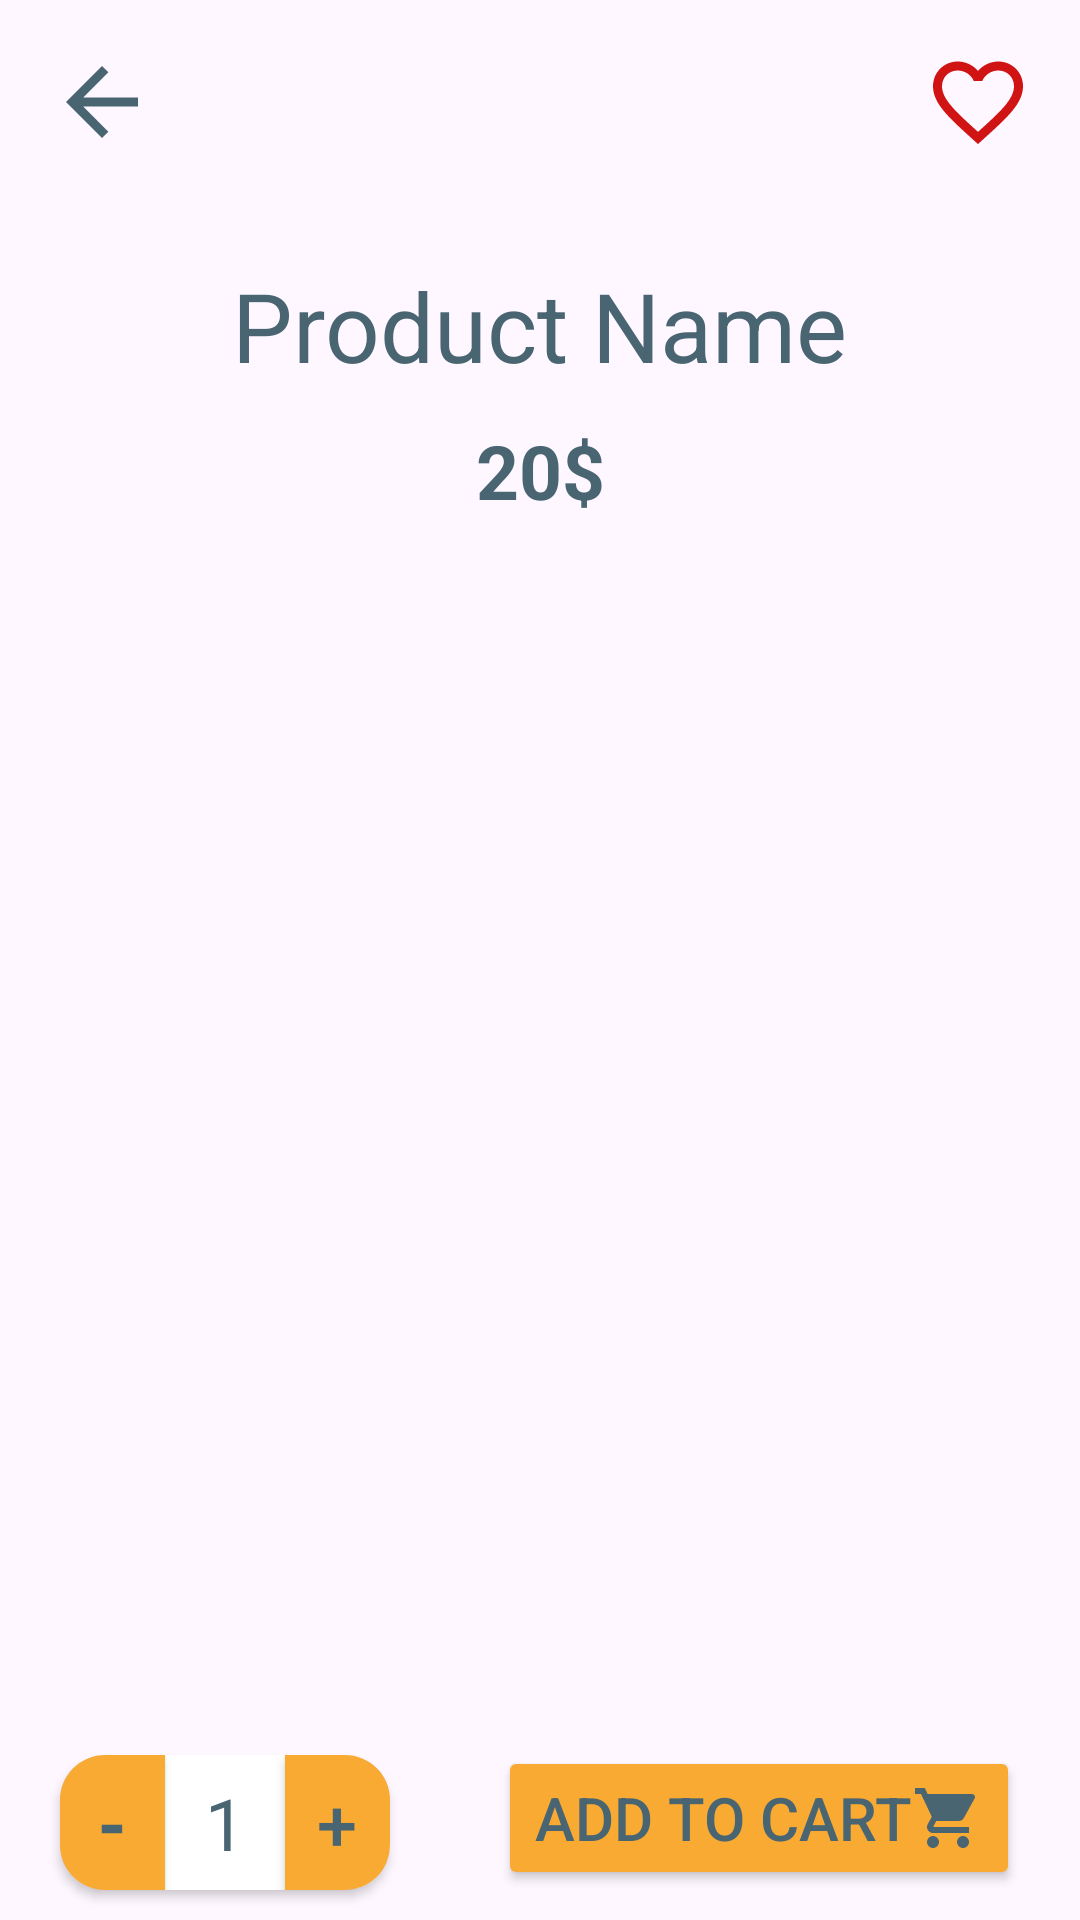

Where icons sit on this 1080*1920 app screen, as (x1, y1, x2, y2):
back: (66, 66, 138, 138)
detail fav border: (933, 61, 1023, 144)
